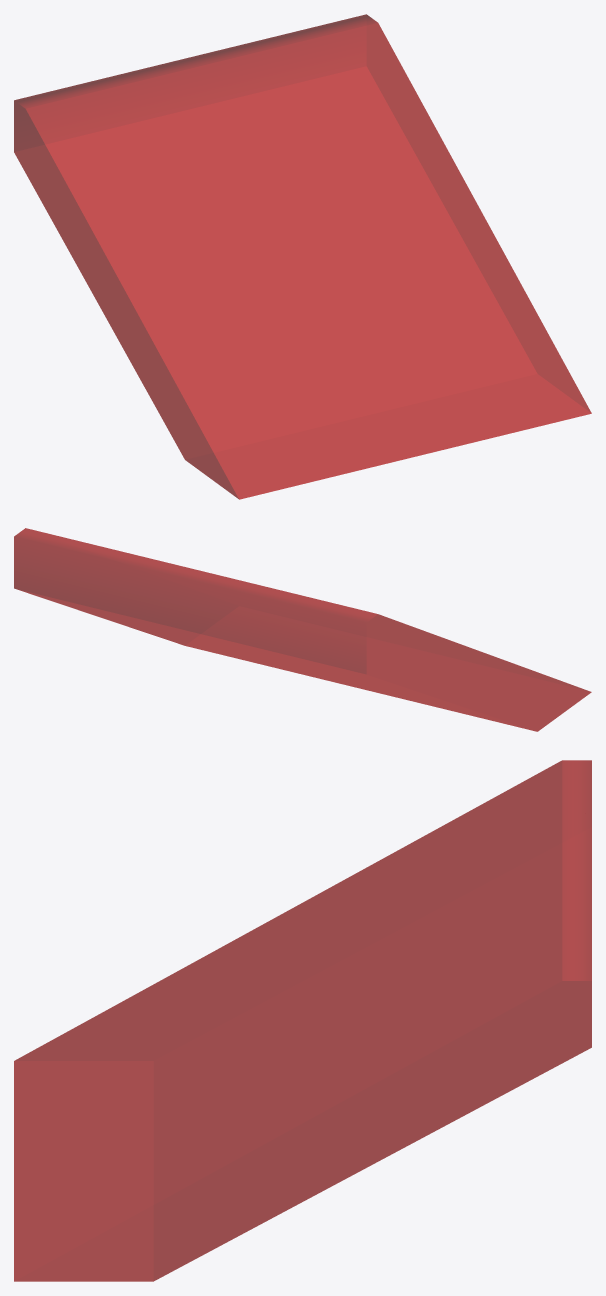
Rendered from SM_Bld_Stairs_01_Collision.fbx.
3 views of the same model, one above another, from view 1: azimuth 30°, elevation 25°; view 2: azimuth 150°, elevation 25°; view 3: azimuth 270°, elevation 25° (orthographic). The views are drawn at different scales.
Visible parts, largest first — view 1: SM_Bld_Stairs_01_Collision; view 2: SM_Bld_Stairs_01_Collision; view 3: SM_Bld_Stairs_01_Collision.
Part boxes in pixels (box(x1,y1,x2,y2)): SM_Bld_Stairs_01_Collision: box(14, 14, 591, 499); SM_Bld_Stairs_01_Collision: box(14, 528, 591, 731); SM_Bld_Stairs_01_Collision: box(14, 760, 591, 1281).
Size of the model in its own units: 250 by 159 by 277.
